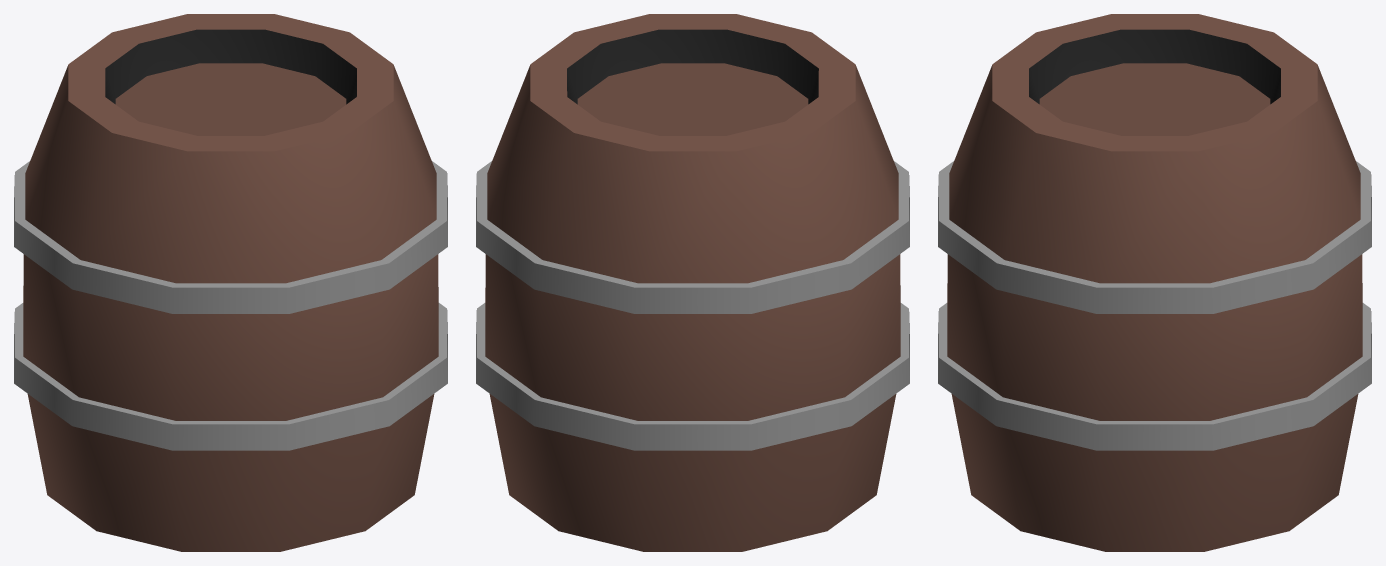
The model's file is barrel_001.glb.
3 views of the same model, side by side, from view 1: azimuth 30°, elevation 25°; view 2: azimuth 150°, elevation 25°; view 3: azimuth 270°, elevation 25° (orthographic).
Parts seen in each view (by area): view 1: barrel_001; view 2: barrel_001; view 3: barrel_001.
Boxes of the visible parts, <box> form: barrel_001: <box>14,14,447,551</box>; barrel_001: <box>476,14,909,551</box>; barrel_001: <box>938,14,1371,551</box>.
Size of the model in its own units: 0.9352 by 0.9319 by 0.9353.
1 material, 1 textured.
